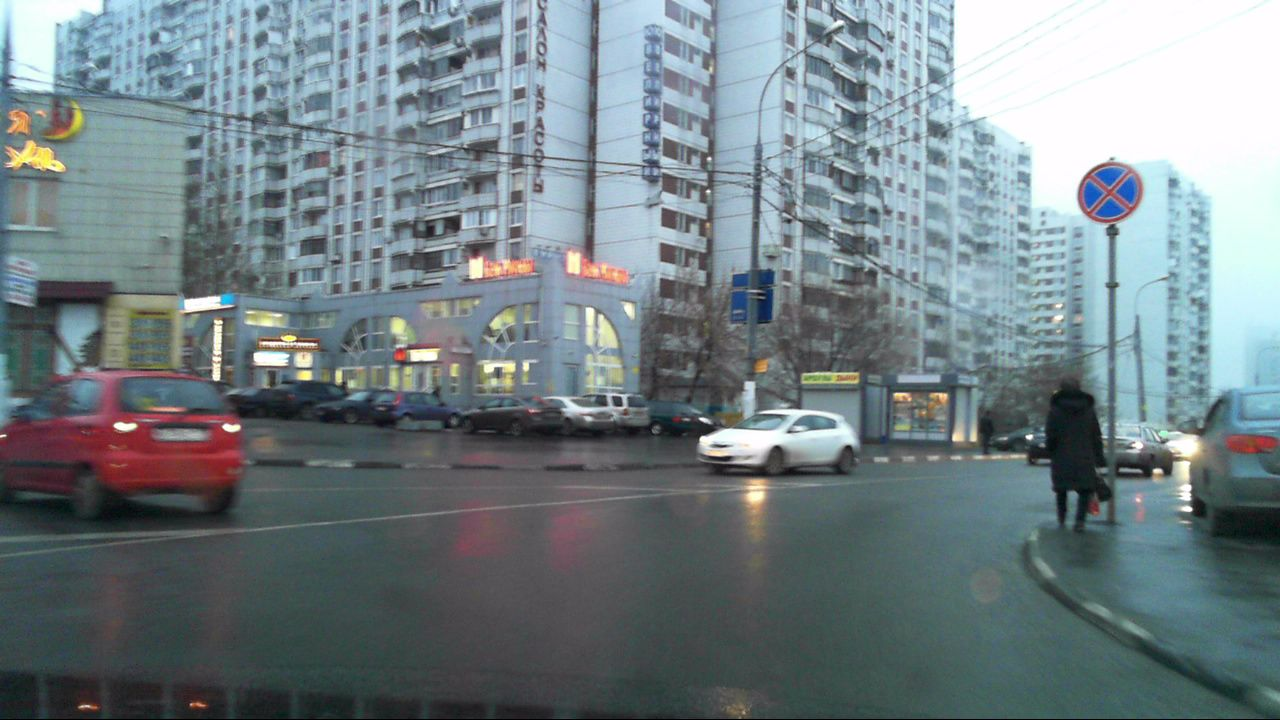No Parking: (1076, 161, 1145, 223)
